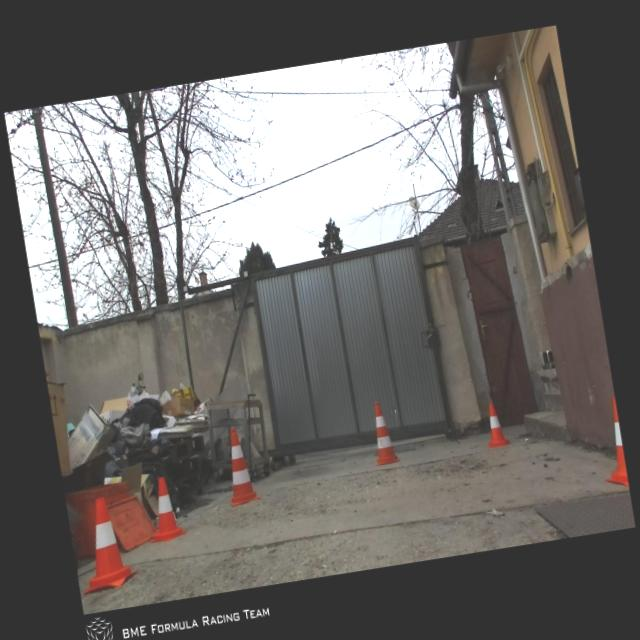large_orange_cone: (218, 426, 261, 507), (366, 399, 401, 466)
orange_cone: (68, 493, 138, 594), (593, 398, 629, 492), (141, 474, 187, 543), (481, 401, 511, 448)
